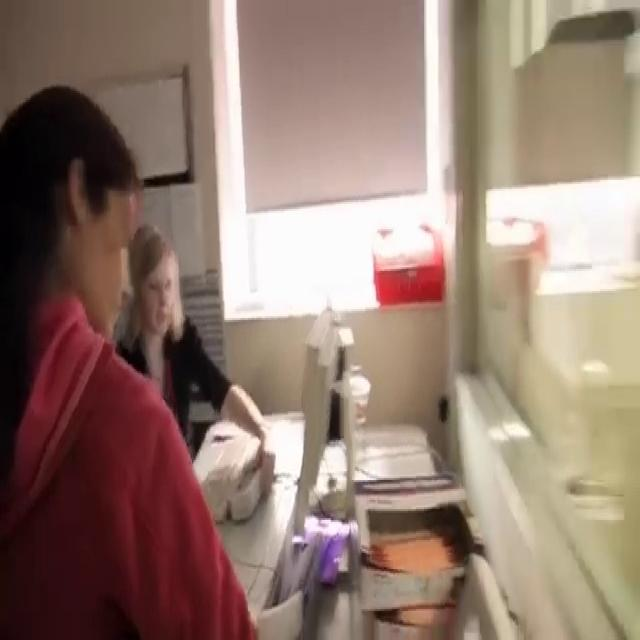others: (0, 82, 259, 636), (111, 222, 271, 467)
